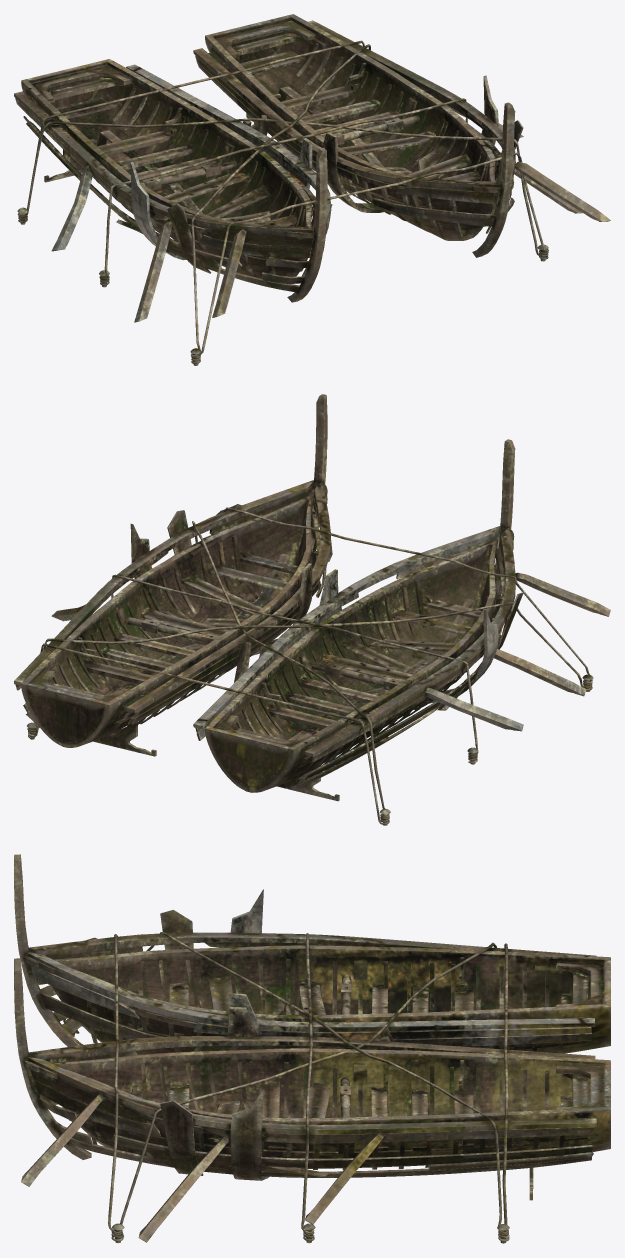
File: pirate_boat.glb
The picture shows the model from 3 angles, top to bottom: view 1: azimuth 30°, elevation 25°; view 2: azimuth 150°, elevation 25°; view 3: azimuth 270°, elevation 25°; orthographic projection. The views are drawn at different scales.
Visible parts, largest first — view 1: XI_DPS_Boat.Shape; view 2: XI_DPS_Boat.Shape; view 3: XI_DPS_Boat.Shape.
Boxes of the visible parts, x1,y1,x2,y2 form: XI_DPS_Boat.Shape: (14,14,610,365); XI_DPS_Boat.Shape: (14,394,610,825); XI_DPS_Boat.Shape: (14,854,610,1243).
Bounding box in the file's own units: 6.7 × 2.83 × 6.4.
Materials: 1 (1 with a texture image).
